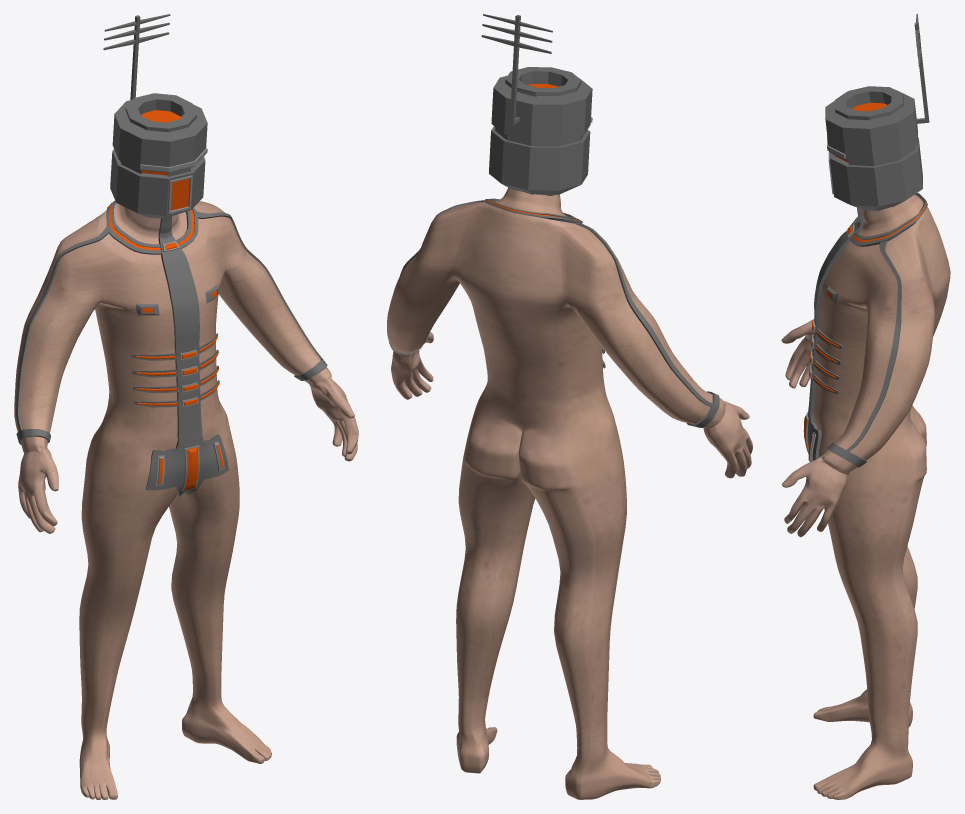
File: npc4.fbx
3 views of the same model, side by side, from view 1: azimuth 30°, elevation 25°; view 2: azimuth 150°, elevation 25°; view 3: azimuth 270°, elevation 25° (orthographic). The views are drawn at different scales.
Parts seen in each view (by area): view 1: pCylinder2; view 2: pCylinder2; view 3: pCylinder2.
Part boxes in pixels (bbox=[...]): pCylinder2: bbox=[14, 14, 358, 799]; pCylinder2: bbox=[387, 14, 752, 799]; pCylinder2: bbox=[781, 14, 950, 799].
Bounding box in the file's own units: 6.06 × 13.09 × 2.74.
4 materials, 1 textured.
